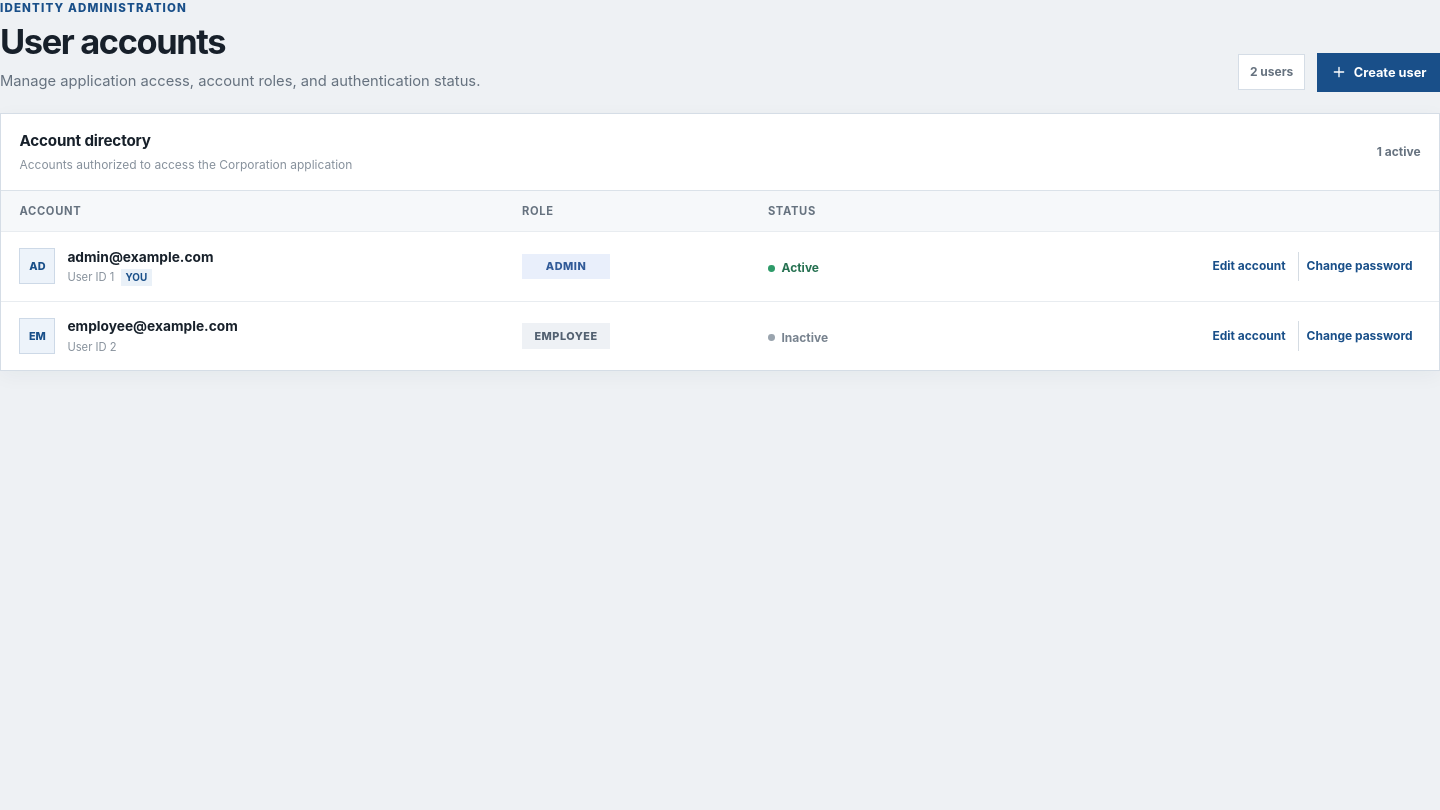
AdminUsersPage › shows friendly feedback for a duplicate email conflict
Expected: the text "employee@example.com" is shown, [67, 316, 238, 337]
Step 1. Click the button "Create user" → [1379, 72], box [1317, 52, 1439, 92]
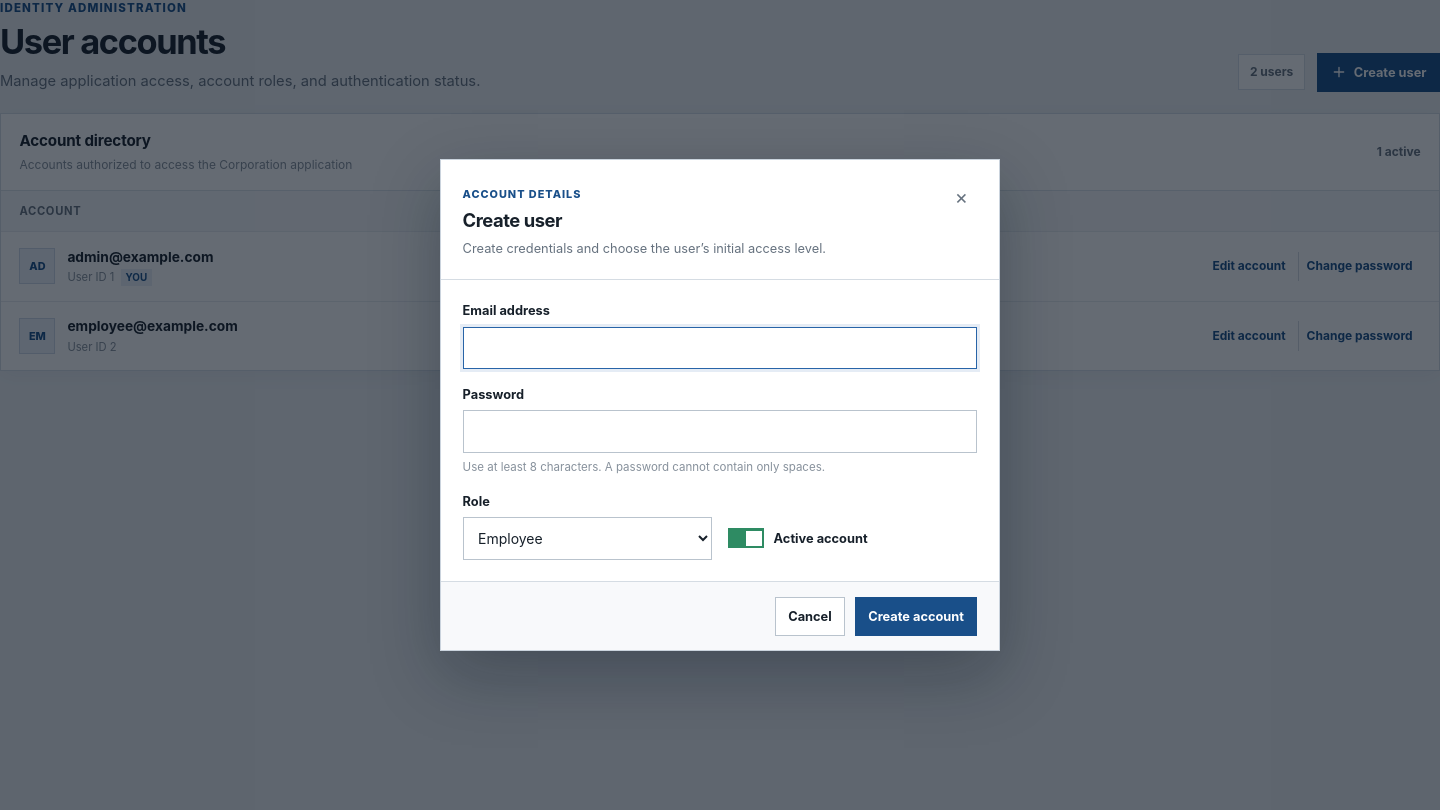
Step 2. Type "admin@example.com" into the field labelled "Email address" → [720, 348], box [463, 326, 977, 369]
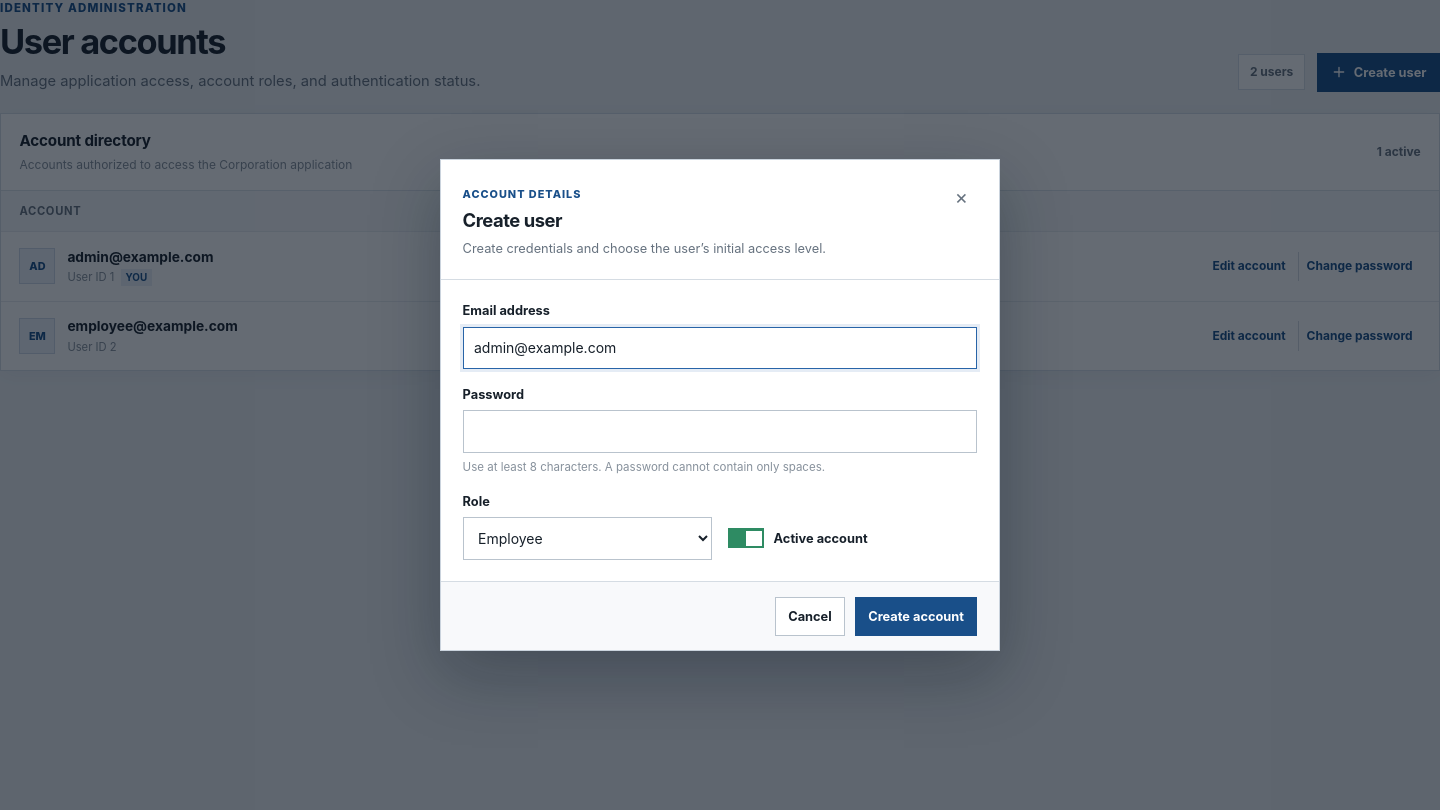
Step 3. Type "valid-pass" into the password field labelled "Password" → [720, 431], box [463, 410, 977, 453]
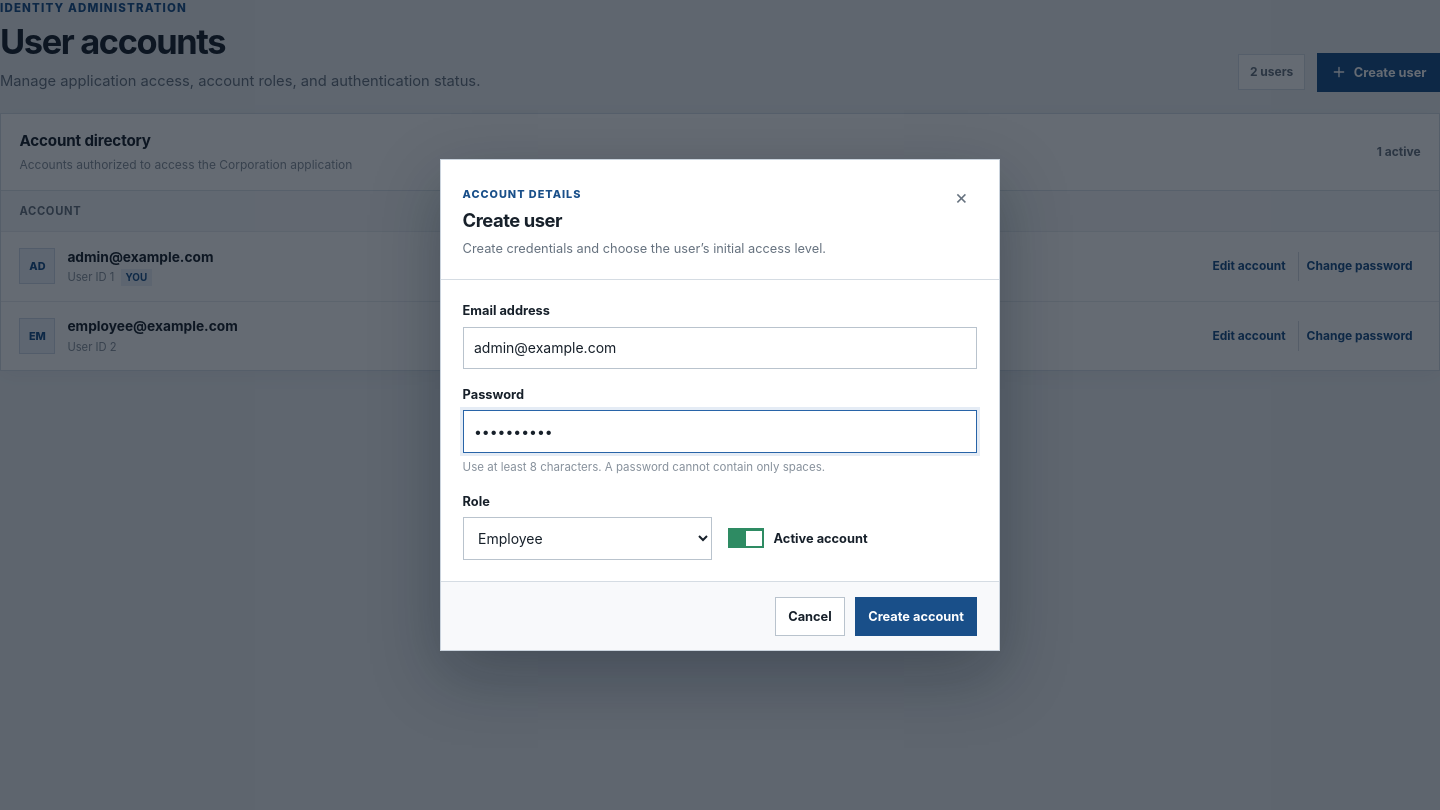
Step 4. Click the button "Create account" → [916, 616], box [855, 596, 978, 636]
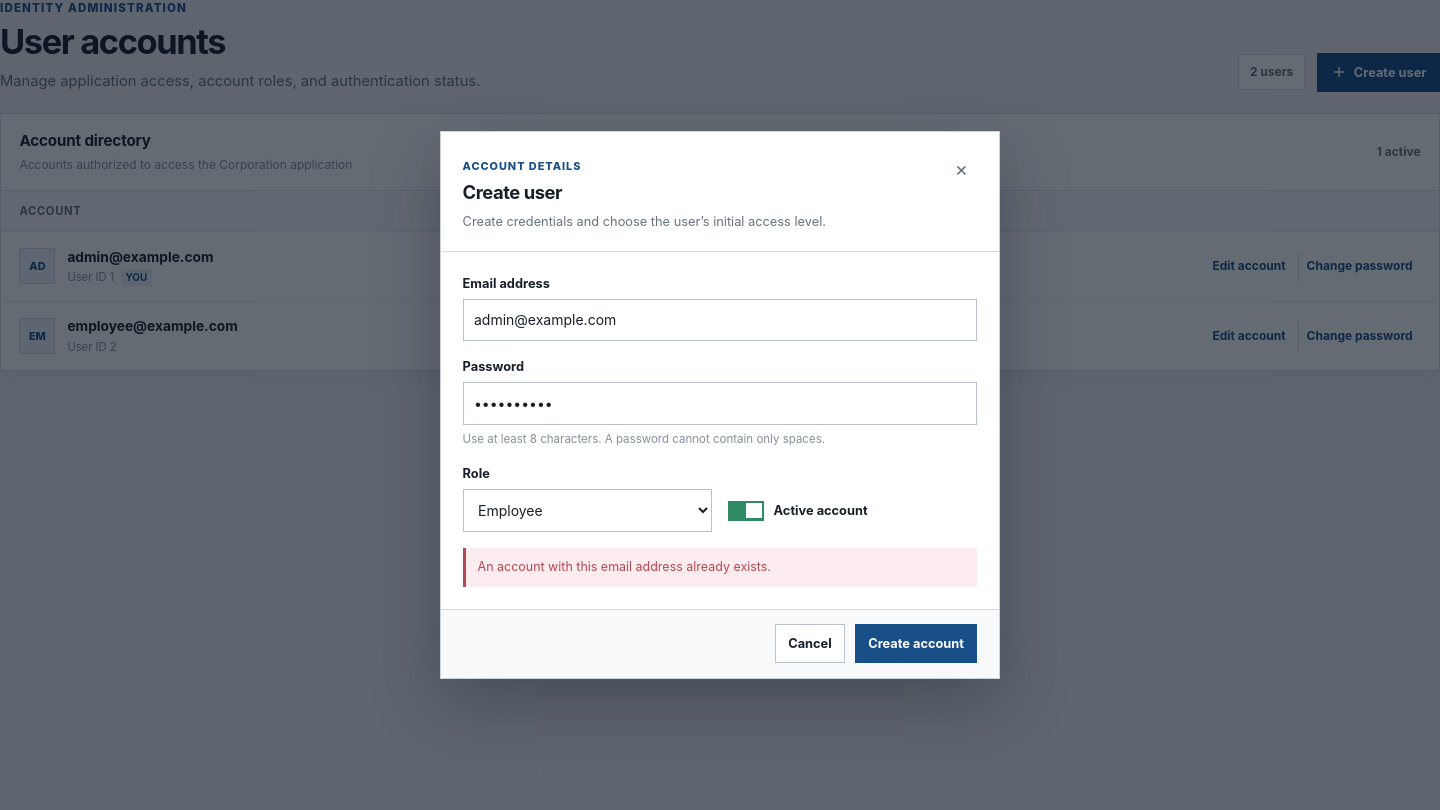
Now the message reads "An account with this email address already exists.", box [478, 559, 771, 574]
